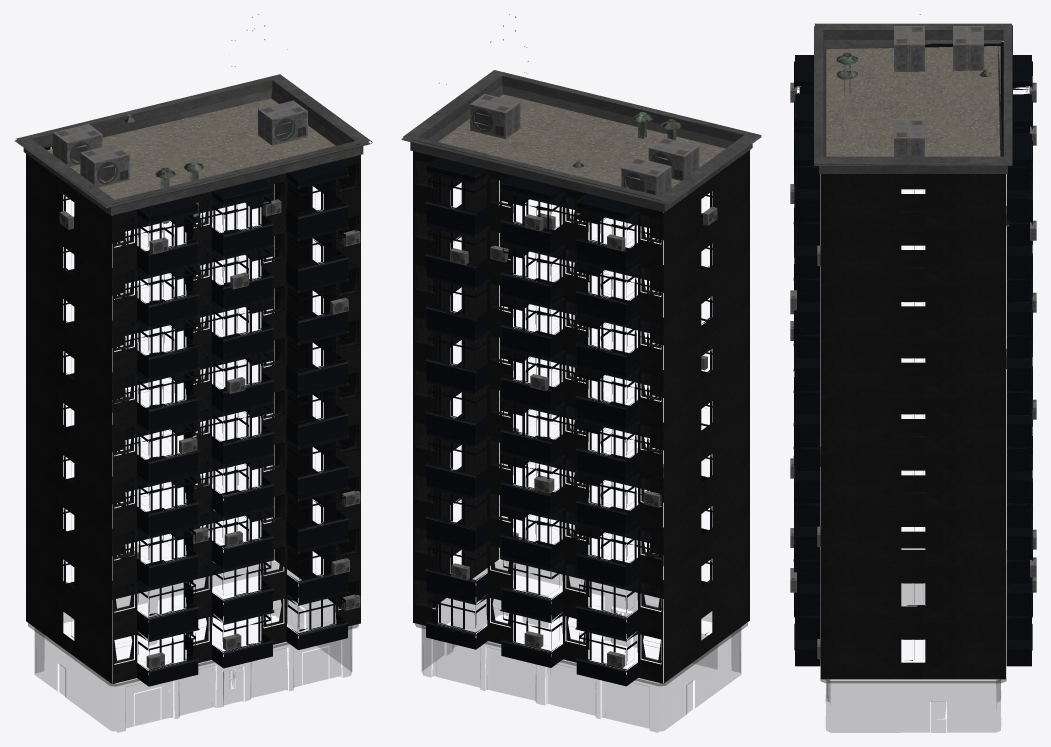
The model's file is dark_apartment_tower.gltf.
3 renders of one model, left to right at view 1: azimuth 30°, elevation 25°; view 2: azimuth 150°, elevation 25°; view 3: azimuth 270°, elevation 25°, orthographic. The views are drawn at different scales.
Visible parts, largest first — view 1: Object_2; view 2: Object_2; view 3: Object_2.
Boxes of the visible parts, x1,y1,x2,y2 form: Object_2: (14, 14, 372, 732); Object_2: (401, 14, 761, 732); Object_2: (790, 14, 1036, 732).
Size of the model in its own units: 16.51 by 38.03 by 12.27.
Materials: 6 (6 with a texture image).
